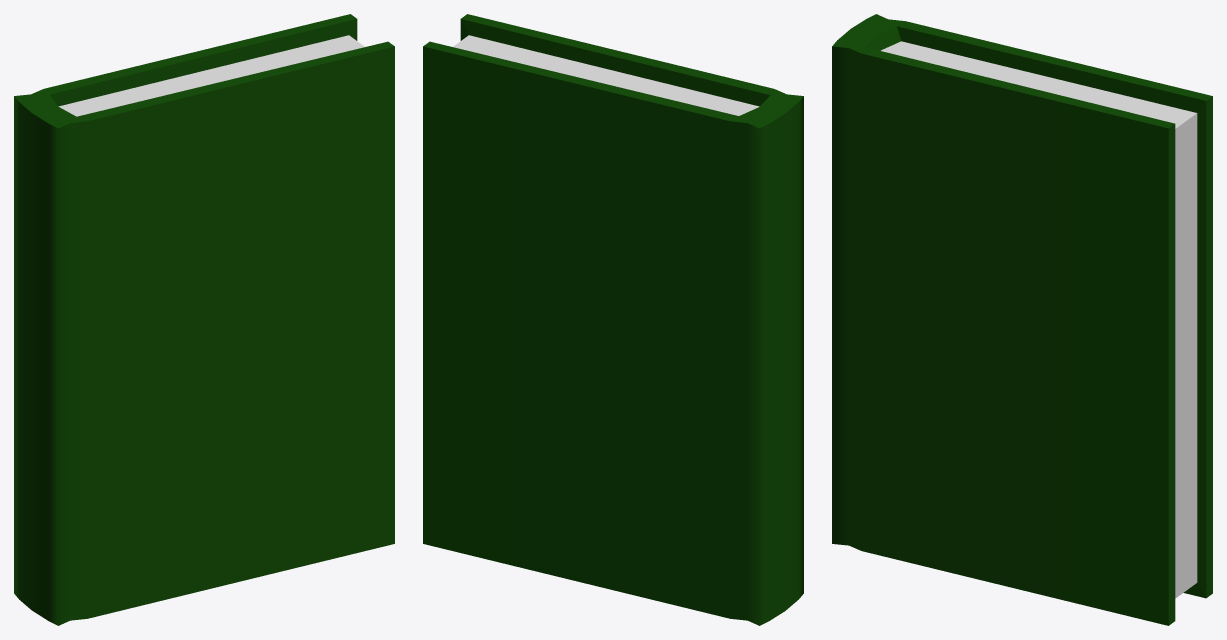
The model's file is BookNoshatter.fbx.
3 renders of one model, left to right at view 1: azimuth 30°, elevation 25°; view 2: azimuth 150°, elevation 25°; view 3: azimuth 330°, elevation 25°, orthographic.
Visible parts, largest first — view 1: book; view 2: book; view 3: book.
Boxes of the visible parts, x1,y1,x2,y2 form: book: (14,14,394,625); book: (423,14,803,625); book: (832,14,1212,625).
Bounding box in the file's own units: 4.44 × 6.2 × 1.
